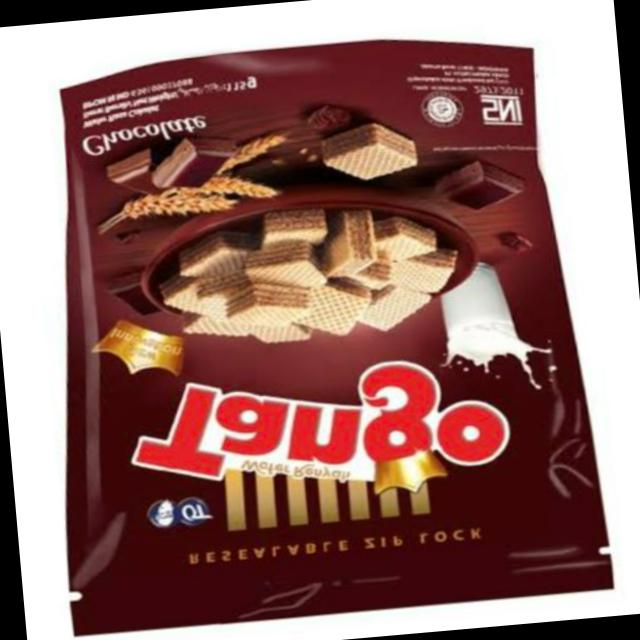KemasanPlastik: (18, 14, 610, 640)
